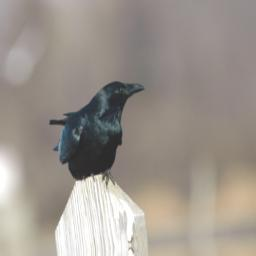Crow: (47, 78, 151, 192)
